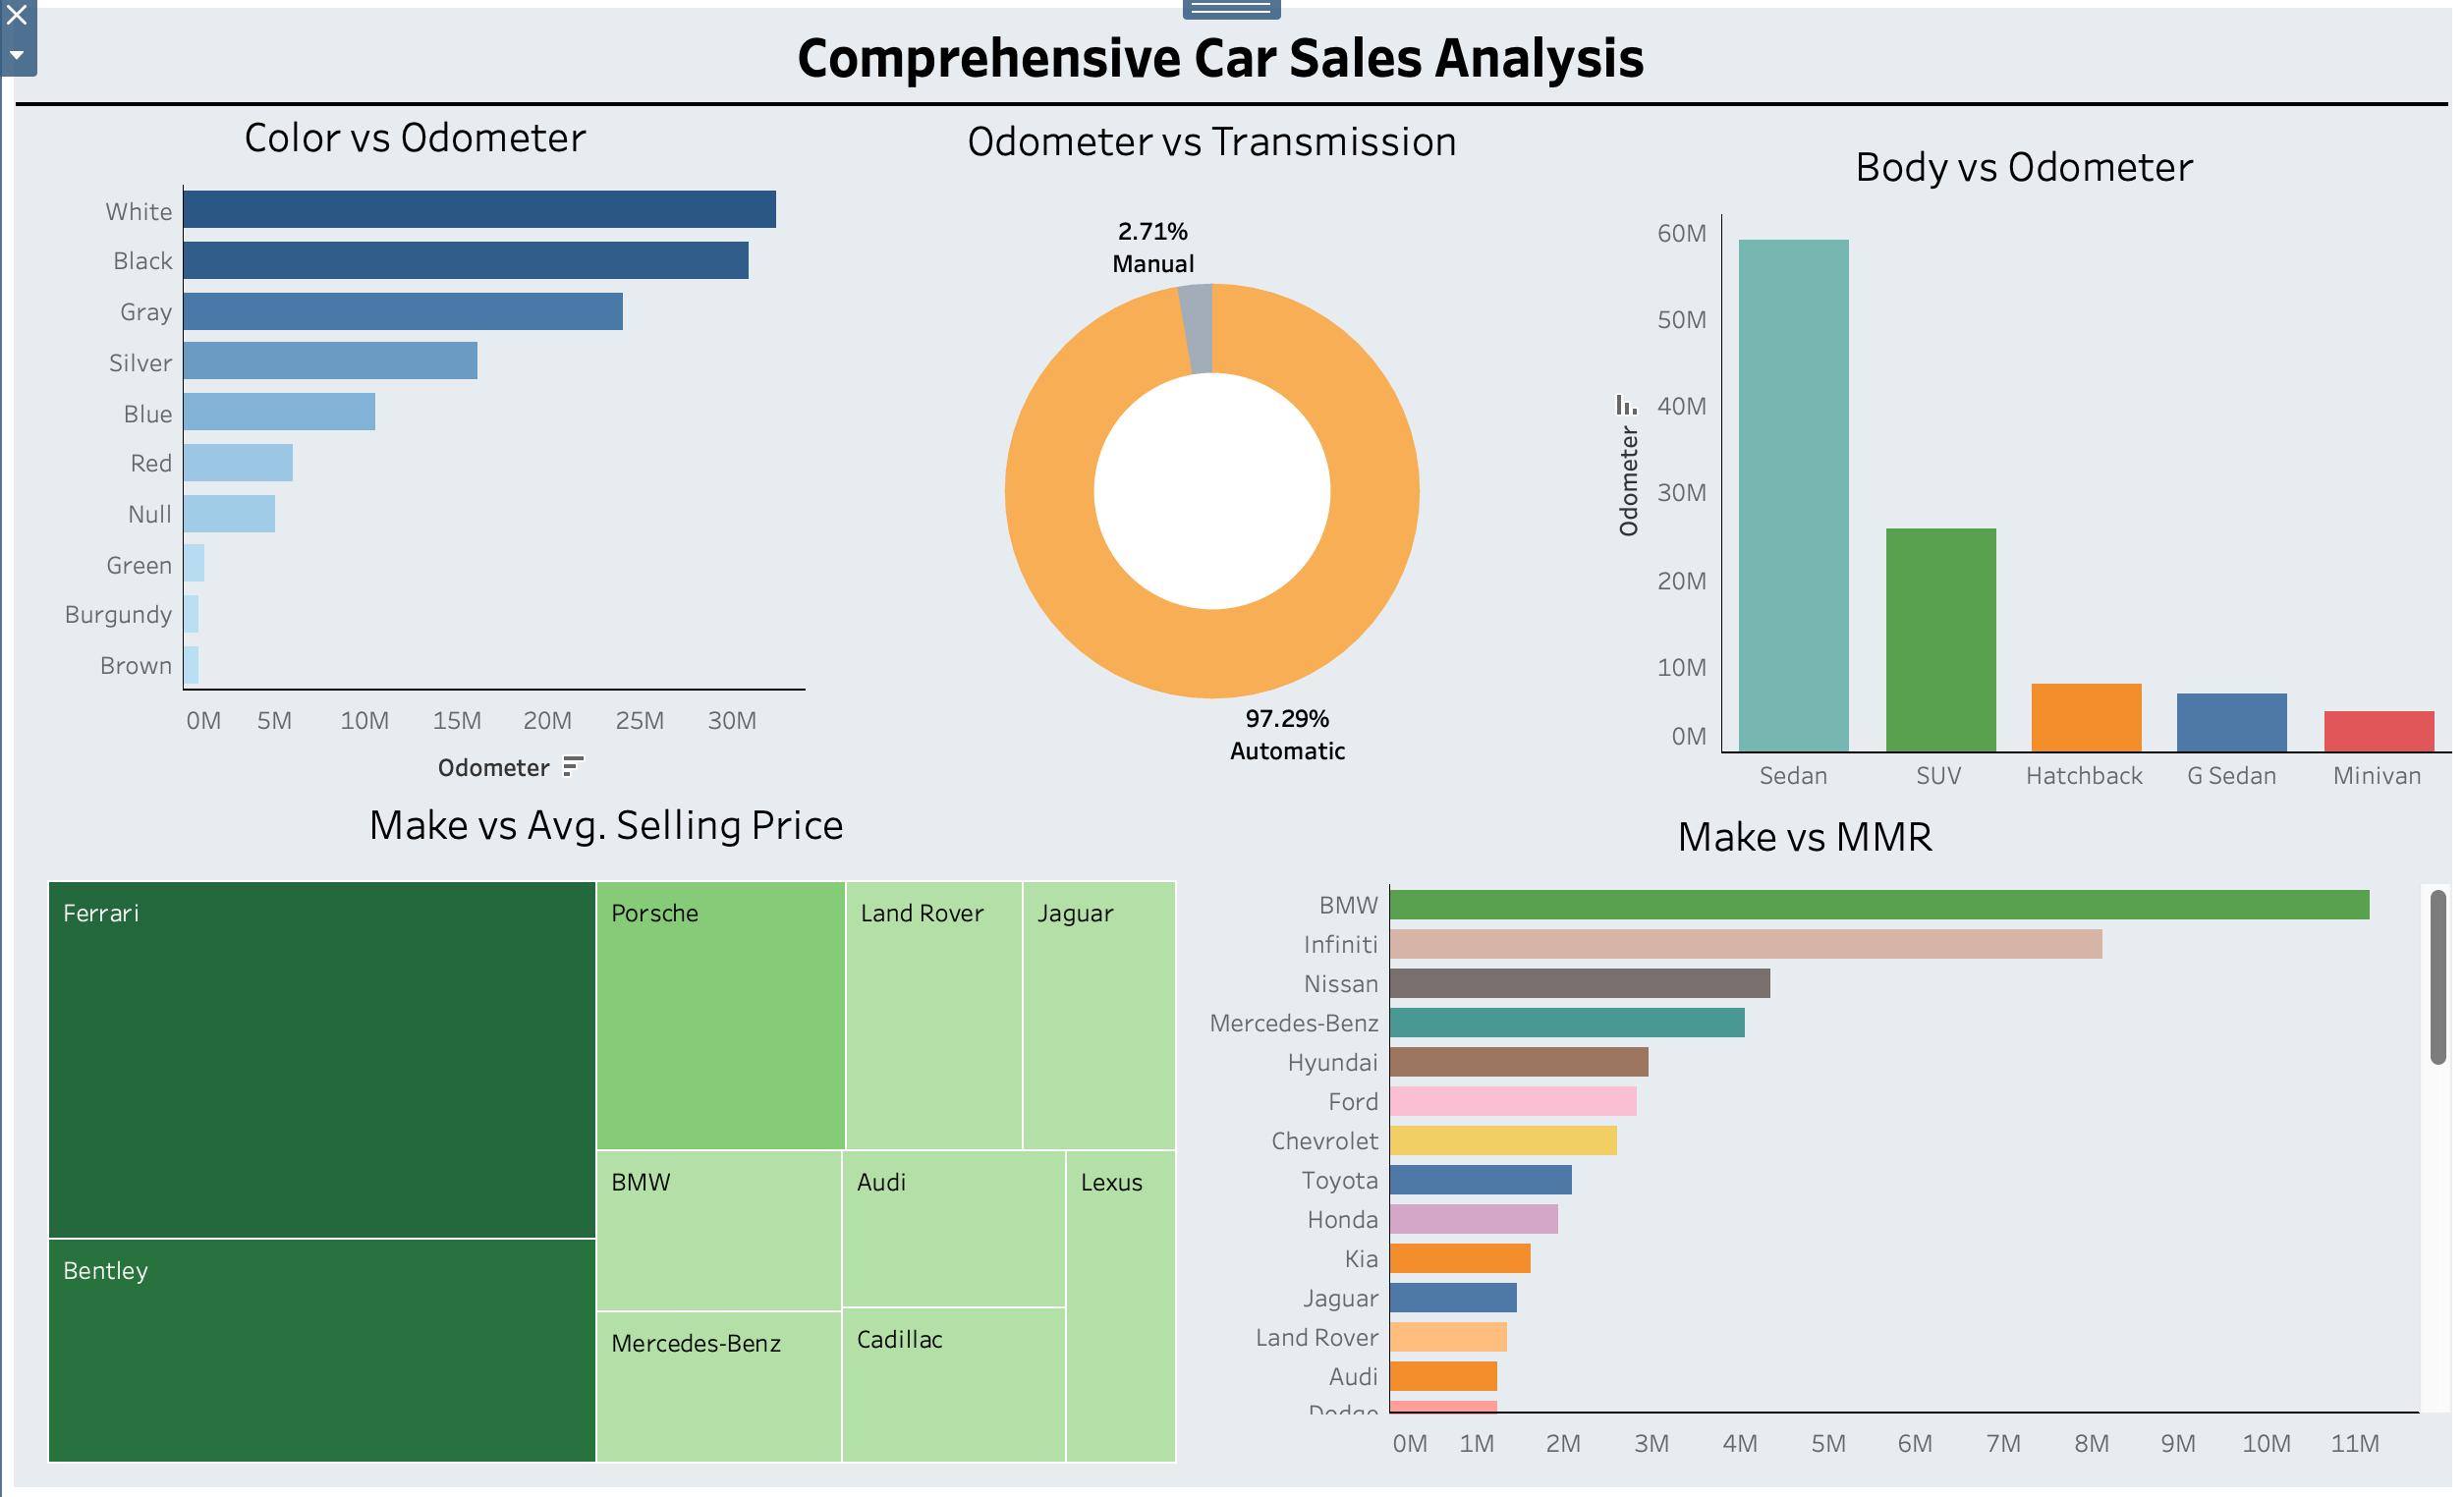

The dashboard page shown, as its layout file describes it:
{"tool":"tableau","page":{"name":"Car Sales","canvas":[1000,1000],"units":"permille","ordinal":0},"visuals":[{"type":"blank","box":[6.4,9.1,987.2,62.5]},{"type":"text","box":[230.8,15.6,528.6,49.5]},{"type":"worksheet","title":"color_odometer","mark":"Automatic","rows":["Color"],"cols":["Odometer"],"box":[11.5,70.3,315.6,462.2]},{"type":"blank","box":[7.2,71.6,984.9,2.6]},{"type":"worksheet","title":"transmission_odometer","mark":"Pie","cols":["Calculation_564568474834464773","Calculation_564568474834546695"],"box":[332.8,72.9,318,457]},{"type":"worksheet","title":"body_odometer","mark":"Automatic","rows":["Odometer"],"cols":["Body"],"box":[647.6,89.8,346.1,440.1]},{"type":"worksheet","title":"make_sellingprice","mark":"Automatic","box":[16.7,526,463,453.1]},{"type":"worksheet","title":"make_mmr","mark":"Bar","rows":["Make"],"cols":["MMR"],"box":[483.7,533.9,509.9,450.5]}]}

Visuals, with their boxes on the dashboard's canvas, which has no fixed pixel size, in thousandths of its width and height (x1, y1, x2, y2). These are canvas units, not pixel positions in the 2464x1497 screenshot, which may show the page scaled, cropped or inside an application window:
blank: Rect(6, 9, 994, 72)
text: Rect(231, 16, 759, 65)
"color_odometer" worksheet: Rect(12, 70, 327, 532)
blank: Rect(7, 72, 992, 74)
"transmission_odometer" worksheet (Pie marks): Rect(333, 73, 651, 530)
"body_odometer" worksheet: Rect(648, 90, 994, 530)
"make_sellingprice" worksheet: Rect(17, 526, 480, 979)
"make_mmr" worksheet (Bar marks): Rect(484, 534, 994, 984)
